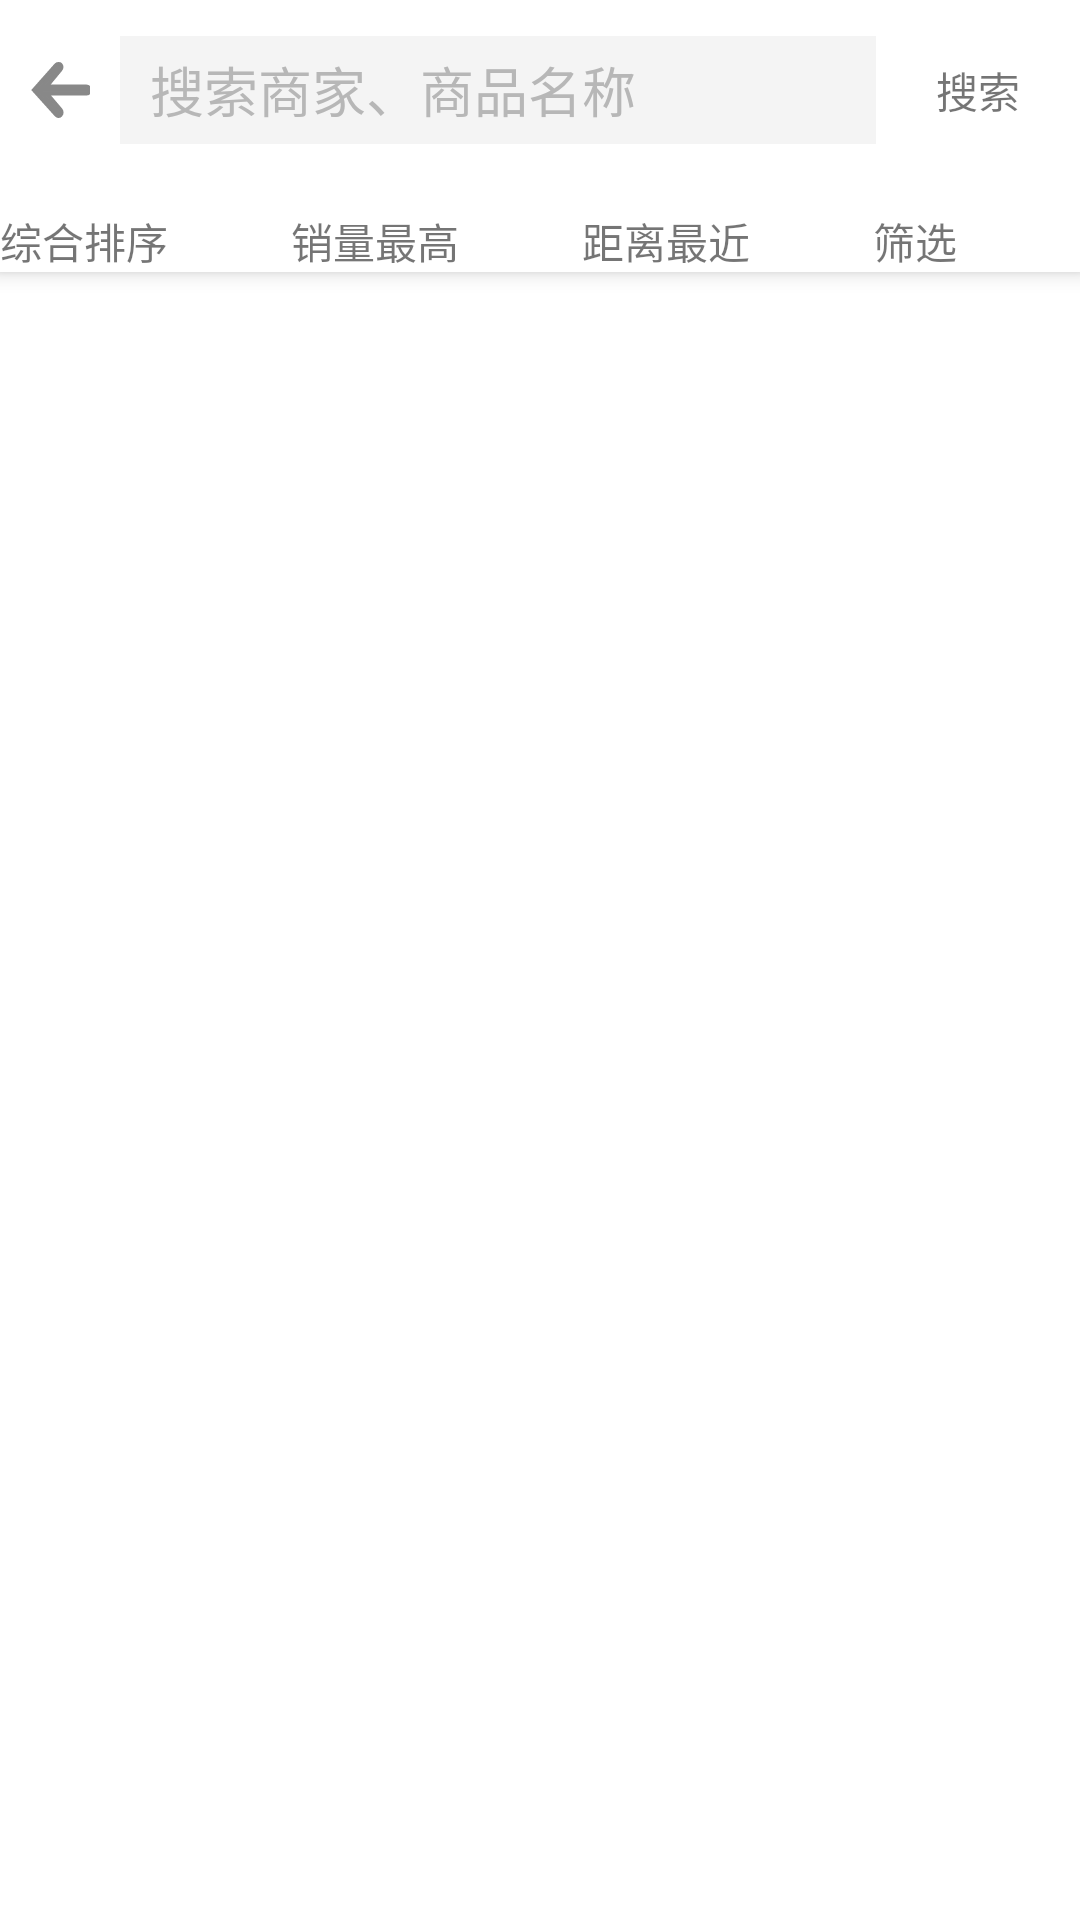

Named icons in this screenshot (1080 x 1920) and their bounding boxes, (x1, y1, x2, y2):
si glyph arrow left: (31, 62, 90, 118)
